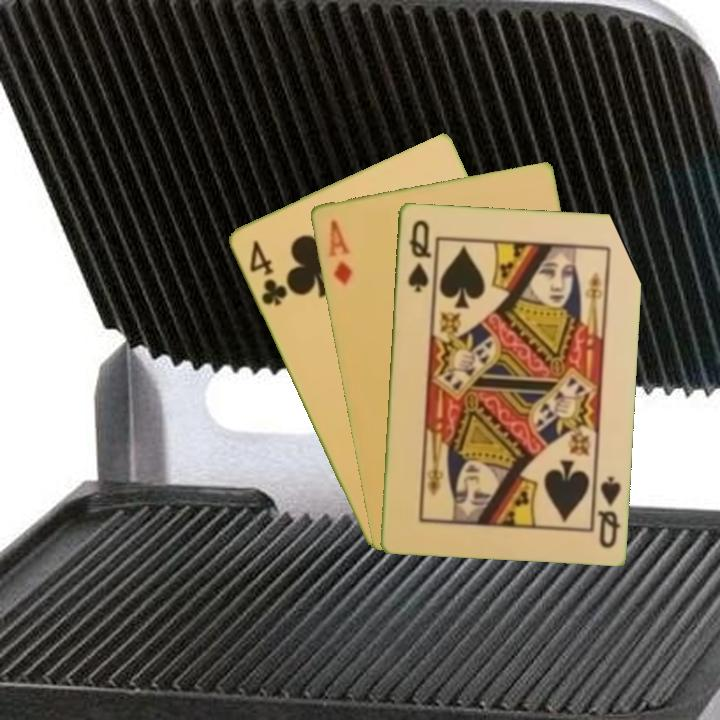4c: (245, 236, 290, 309)
Ad: (324, 216, 355, 289)
Qs: (404, 216, 433, 295), (594, 473, 623, 551)
